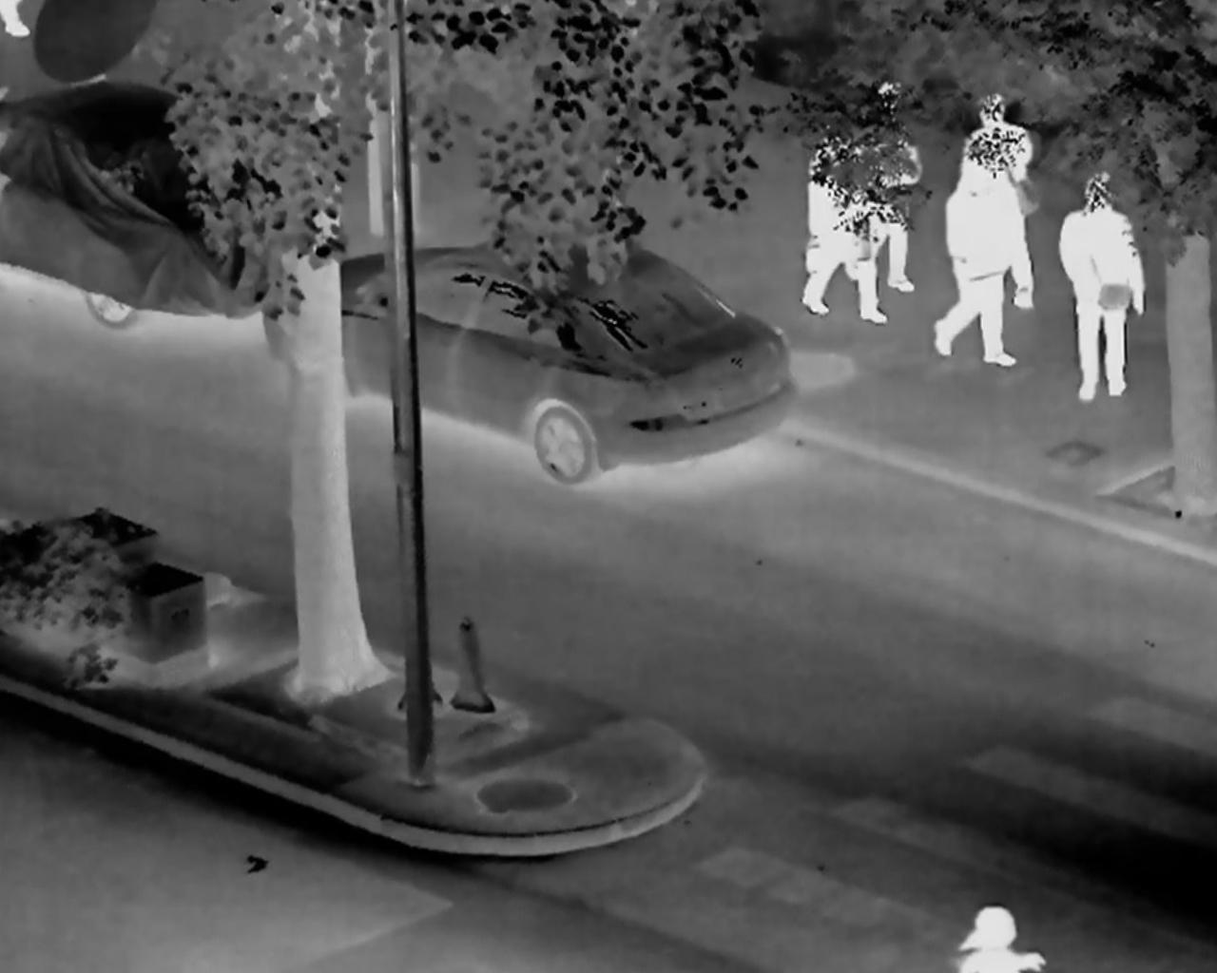person: (1057, 173, 1143, 405), (935, 151, 1015, 367), (800, 122, 887, 320), (966, 98, 1038, 312), (859, 83, 920, 298), (958, 907, 1042, 973)
